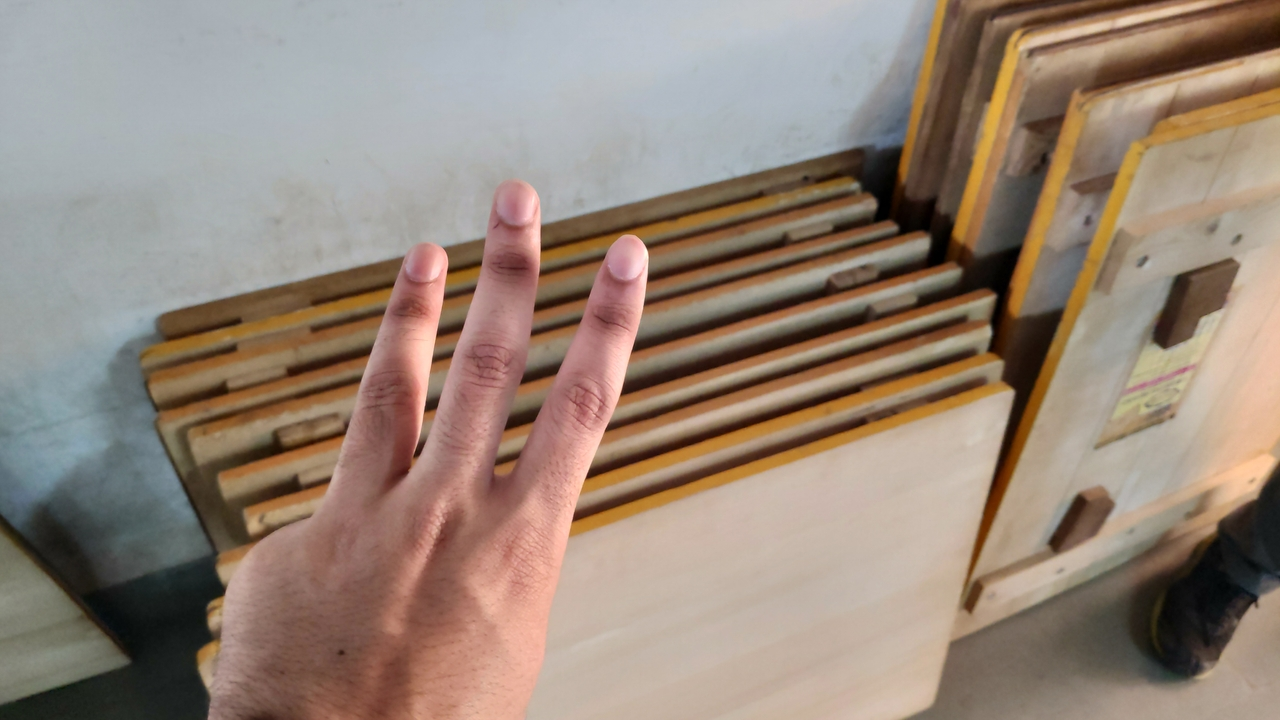fingertip: (588, 226, 658, 294), (386, 234, 454, 296), (480, 174, 546, 236)
